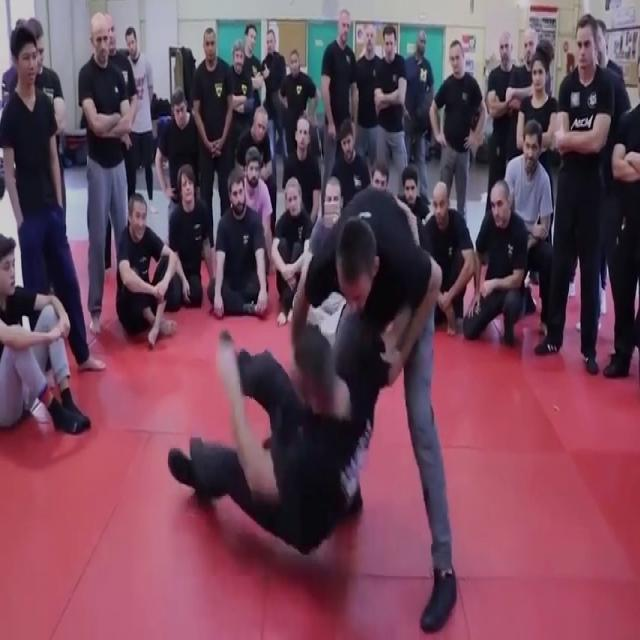fight: (165, 166, 469, 638)
non-fight: (0, 16, 91, 380), (536, 6, 618, 378), (460, 173, 541, 352), (107, 182, 191, 350), (207, 167, 275, 317)
